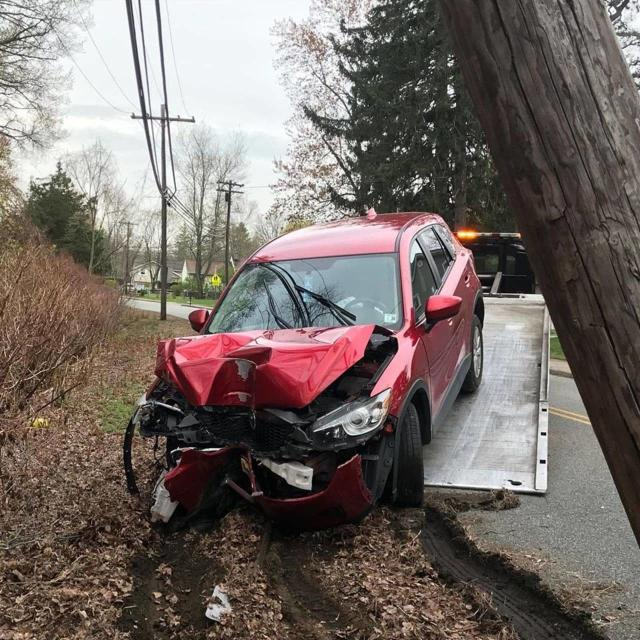crush: (132, 324, 399, 533)
